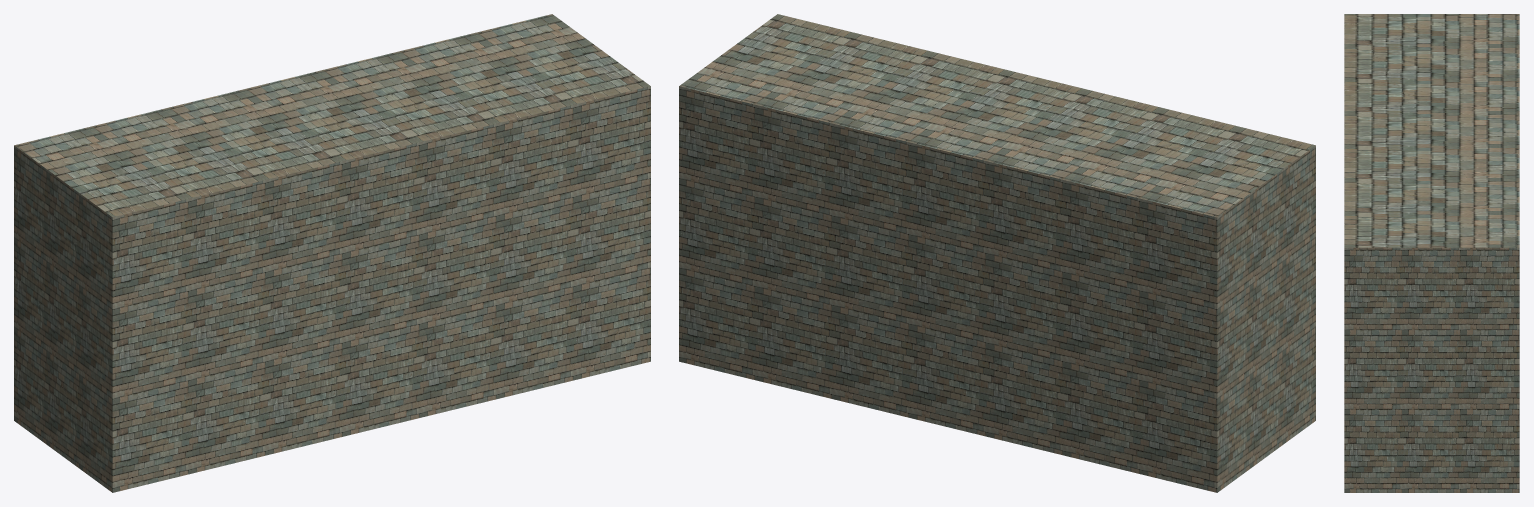
File: bldg.FBX
3 renders of one model, left to right at view 1: azimuth 30°, elevation 25°; view 2: azimuth 150°, elevation 25°; view 3: azimuth 270°, elevation 25°, orthographic. The views are drawn at different scales.
Parts seen in each view (by area): view 1: bldg01; view 2: bldg01; view 3: bldg01.
Boxes of the visible parts, left/top/right/bottom form: bldg01: left=14, top=14, right=650, bottom=492; bldg01: left=679, top=14, right=1315, bottom=492; bldg01: left=1344, top=14, right=1519, bottom=492.
Bounding box in the file's own units: 8.02 × 3.92 × 2.54.
